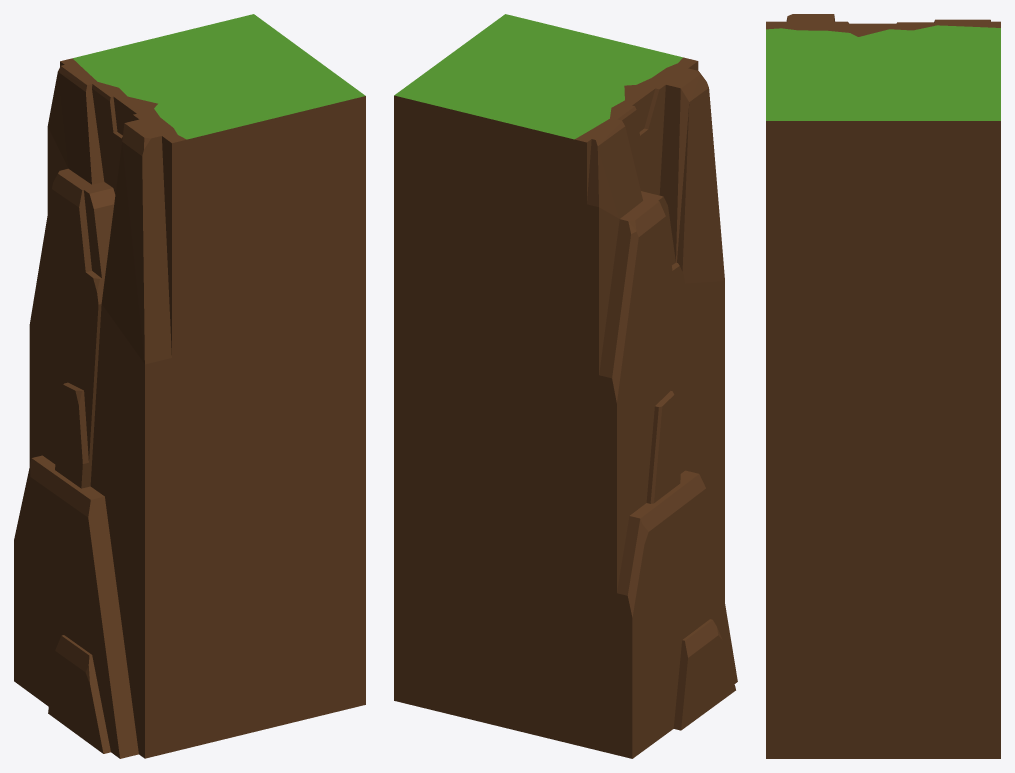
Rendered from Cliff x3 2.fbx.
3 renders of one model, left to right at view 1: azimuth 30°, elevation 25°; view 2: azimuth 150°, elevation 25°; view 3: azimuth 270°, elevation 25°, orthographic. The views are drawn at different scales.
Visible parts, largest first — view 1: Cliff x3 2; view 2: Cliff x3 2; view 3: Cliff x3 2.
Part boxes in pixels (x1,y1,x2,y2): Cliff x3 2: (14,14,365,758); Cliff x3 2: (394,14,737,758); Cliff x3 2: (766,14,1000,758).
Bounding box in the file's own units: 2.55 × 6 × 2.
